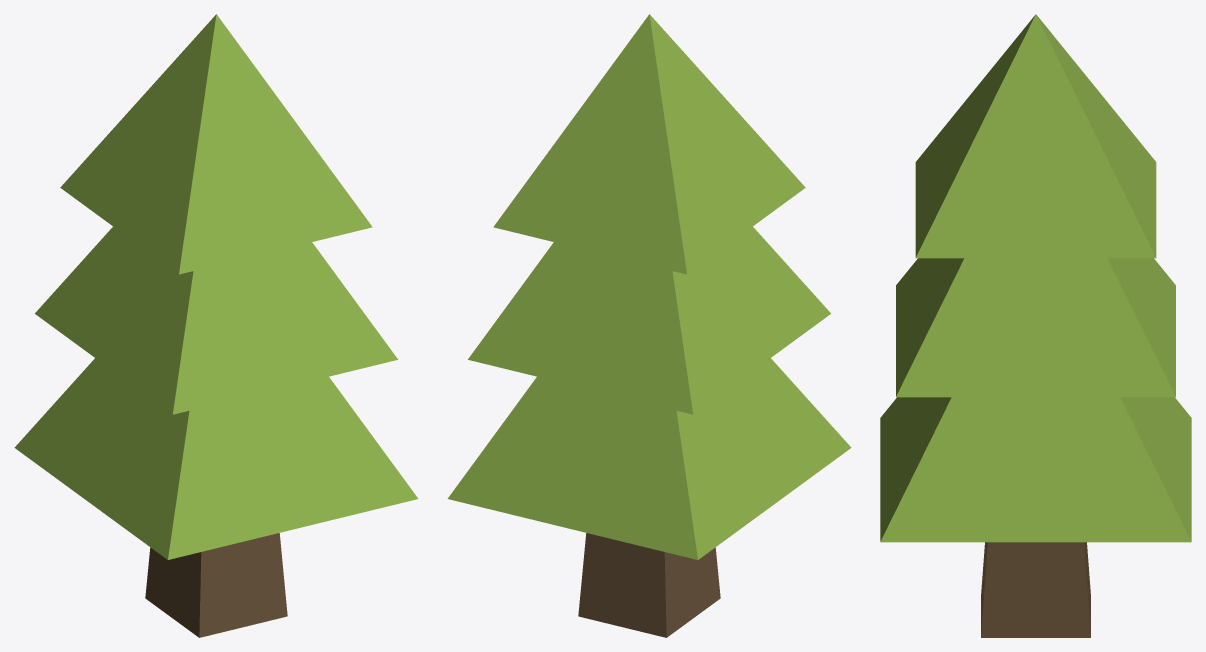
Rendered from FirTree_01.fbx.
3 views of the same model, side by side, from view 1: azimuth 30°, elevation 25°; view 2: azimuth 150°, elevation 25°; view 3: azimuth 270°, elevation 25° (orthographic).
Parts seen in each view (by area): view 1: FirTree_01; view 2: FirTree_01; view 3: FirTree_01.
Boxes of the visible parts, x1,y1,x2,y2 form: FirTree_01: (14, 14, 418, 637); FirTree_01: (447, 14, 851, 637); FirTree_01: (880, 14, 1191, 637).
Bounding box in the file's own units: 1.66 × 3.75 × 1.76.
